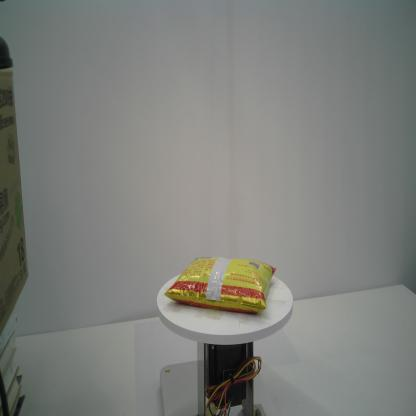Seasoner: (164, 256, 277, 314)
